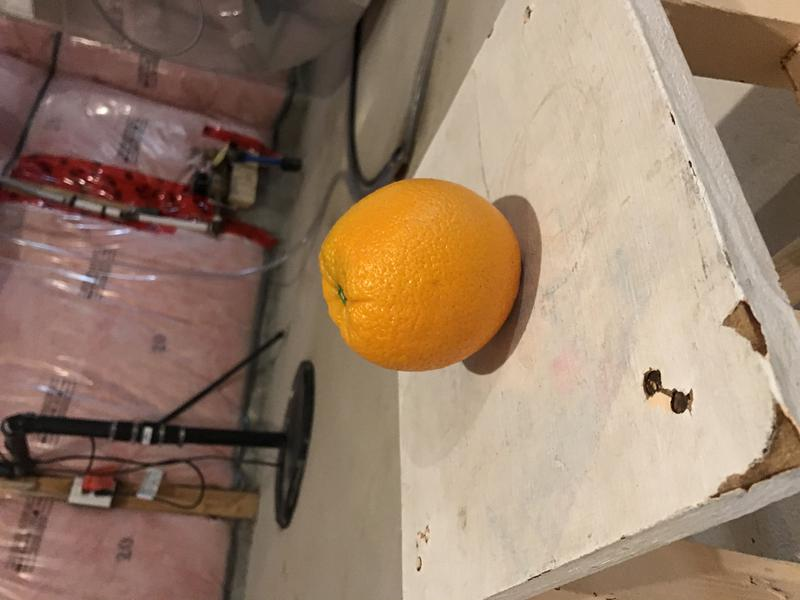orange: (303, 167, 538, 384)
